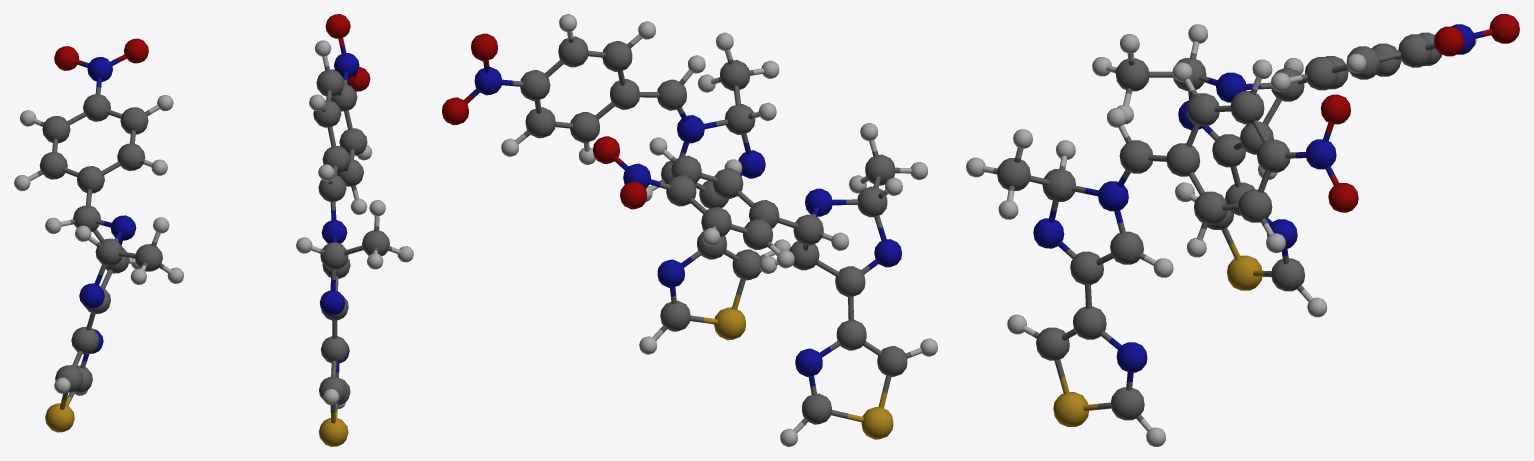
Rendered from ThA-BA.obj.
3 renders of one model, left to right at view 1: azimuth 30°, elevation 25°; view 2: azimuth 150°, elevation 25°; view 3: azimuth 270°, elevation 25°, orthographic. The views are drawn at different scales.
Parts seen in each view (by area): view 1: vmd_mol2_rep0, vmd_mol1_rep0; view 2: vmd_mol2_rep0, vmd_mol1_rep0; view 3: vmd_mol1_rep0, vmd_mol2_rep0.
Boxes of the visible parts, x1=… form: vmd_mol2_rep0: x1=14, y1=38, x2=183, y2=432; vmd_mol1_rep0: x1=296, y1=14, x2=413, y2=446; vmd_mol2_rep0: x1=593, y1=123, x2=937, y2=446; vmd_mol1_rep0: x1=442, y1=14, x2=790, y2=354; vmd_mol1_rep0: x1=966, y1=59, x2=1358, y2=446; vmd_mol2_rep0: x1=1092, y1=14, x2=1519, y2=317.
Size of the model in its own units: 2.57 by 2.15 by 2.66.
